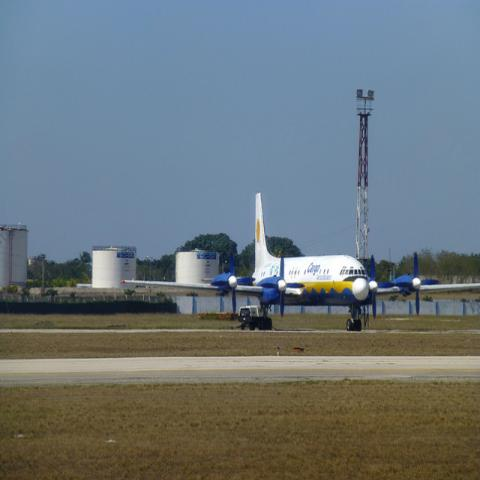car: (239, 305, 272, 332)
